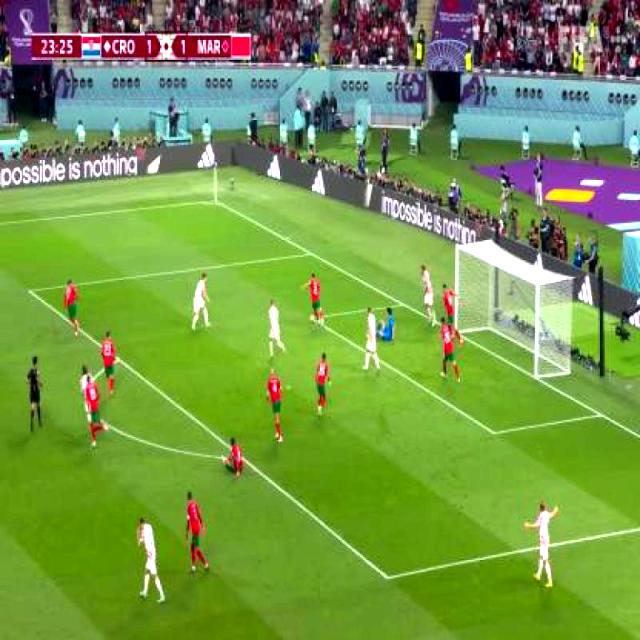bigarea_bottom_inner: (382, 569, 394, 588)
bigarea_top_inner: (23, 282, 40, 300)
bigarea_top_outter: (308, 249, 314, 259)
bottom_arc_area_intersection: (229, 445, 253, 471)
corner: (206, 198, 222, 205)
smallarea_bottom_inner: (486, 425, 504, 445)
smallarea_bottom_outter: (596, 410, 606, 420)
smallarea_top_outter: (398, 300, 409, 310)
top_arc_area_intersection: (114, 354, 122, 366)
